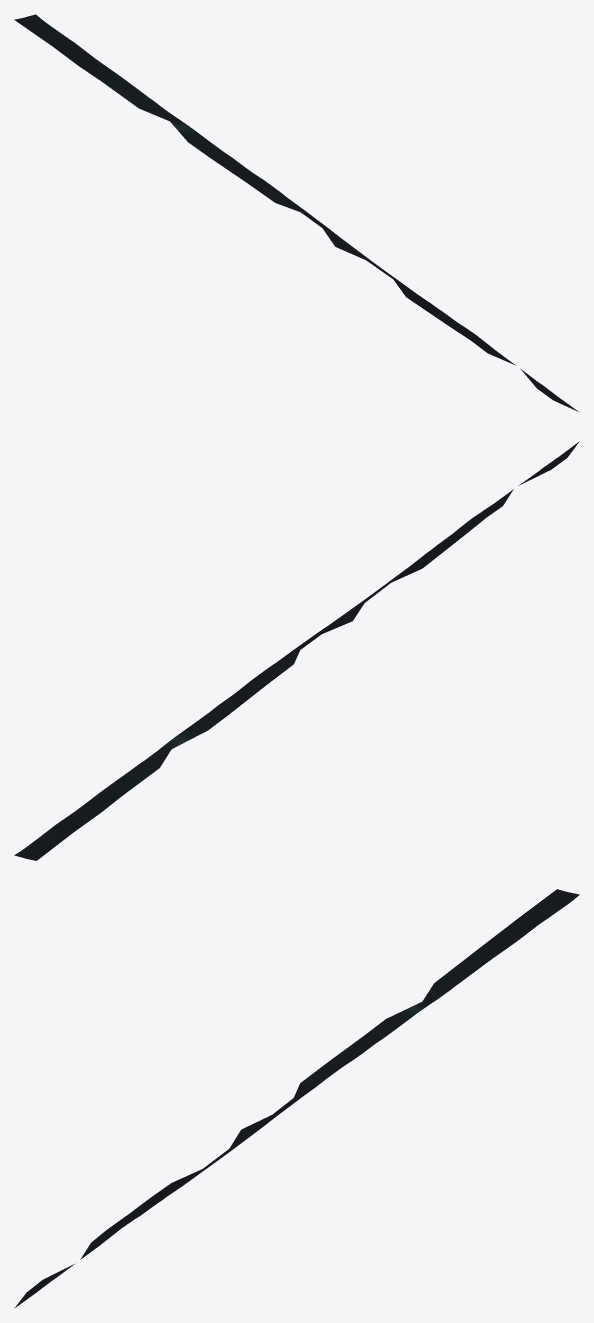
3 renders of one model, top to bottom at view 1: azimuth 30°, elevation 25°; view 2: azimuth 150°, elevation 25°; view 3: azimuth 330°, elevation 25°, orthographic. The views are drawn at different scales.
Bounding box in the file's own units: 2.38 × 0.2771 × 103.
1 material, 1 textured.
